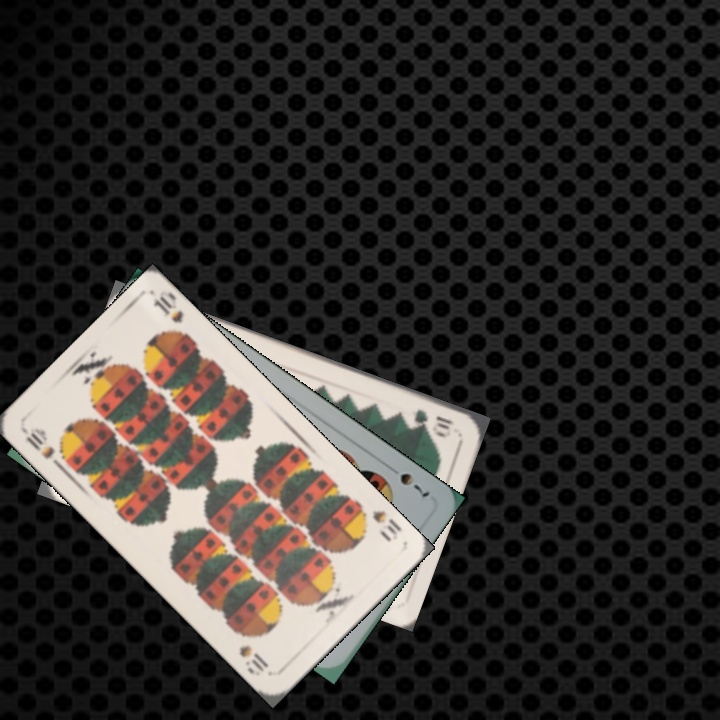G10: (410, 405, 457, 438)
S10: (354, 501, 404, 545), (19, 424, 58, 462)
S7: (383, 461, 432, 502)
